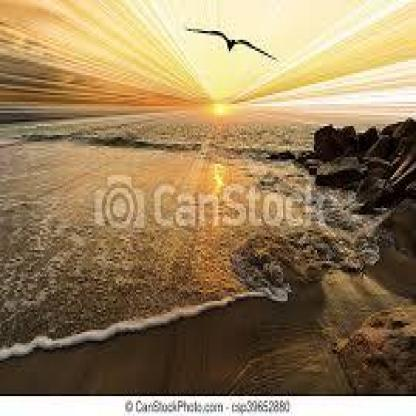bird: (178, 22, 289, 86)
